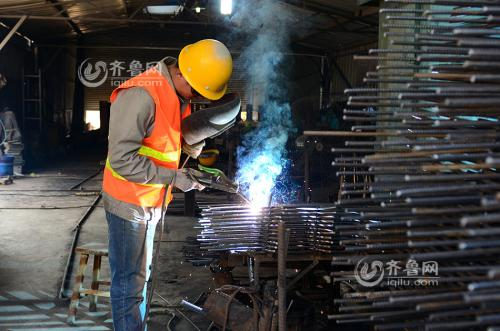gloves: (173, 167, 208, 192), (182, 140, 206, 159)
hard-hat: (178, 38, 232, 101)
person: (101, 38, 234, 331)
vest: (100, 57, 199, 213)
